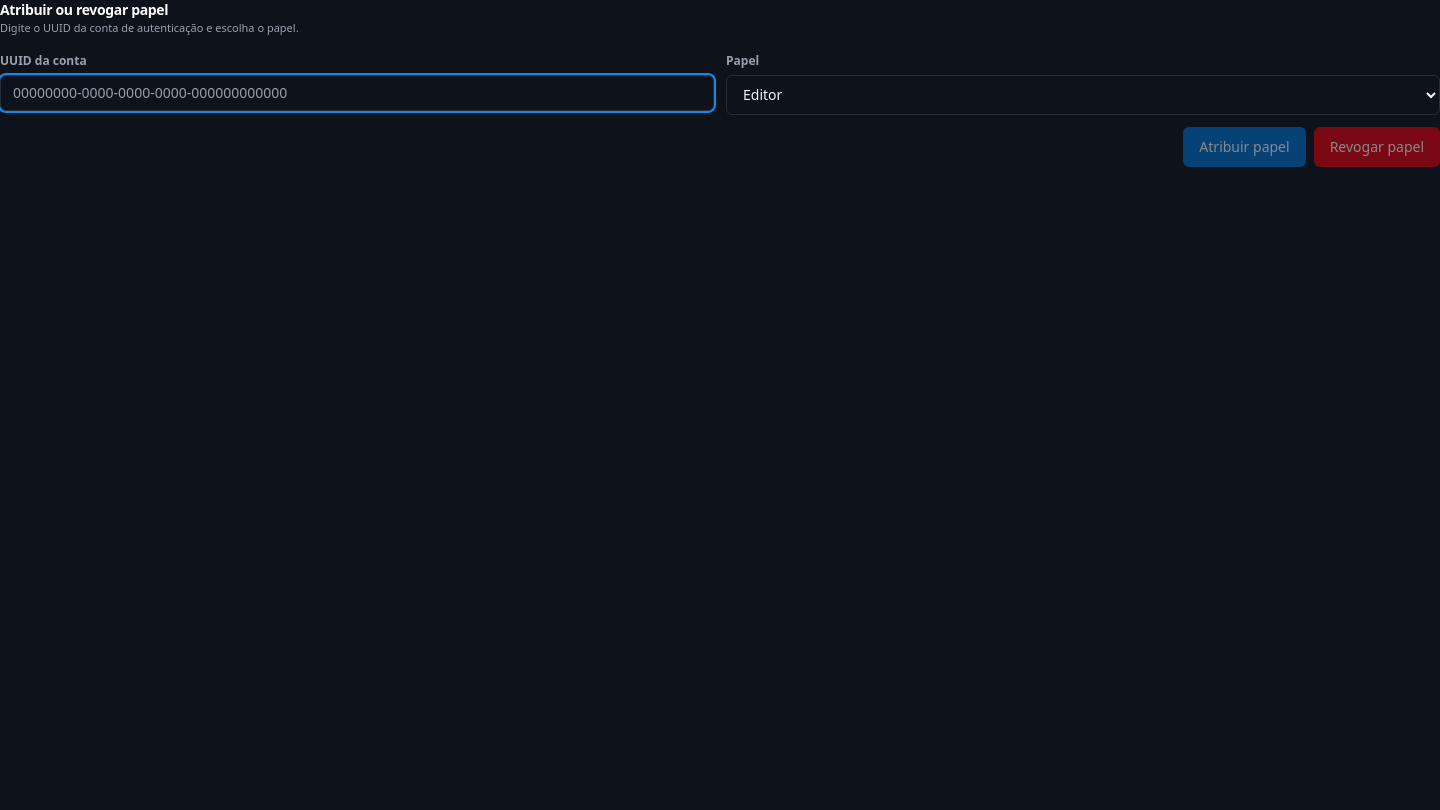
Scenario: UsuariosForm › envia atribuicao ao confirmar e mostra mensagem de sucesso
This screenshot has width=1440, height=810.
Type "00000000-0000-4000-8000-000000000002" into the field labelled "UUID da conta" at (357, 92), box top-left (0, 74), bottom-right (714, 110)
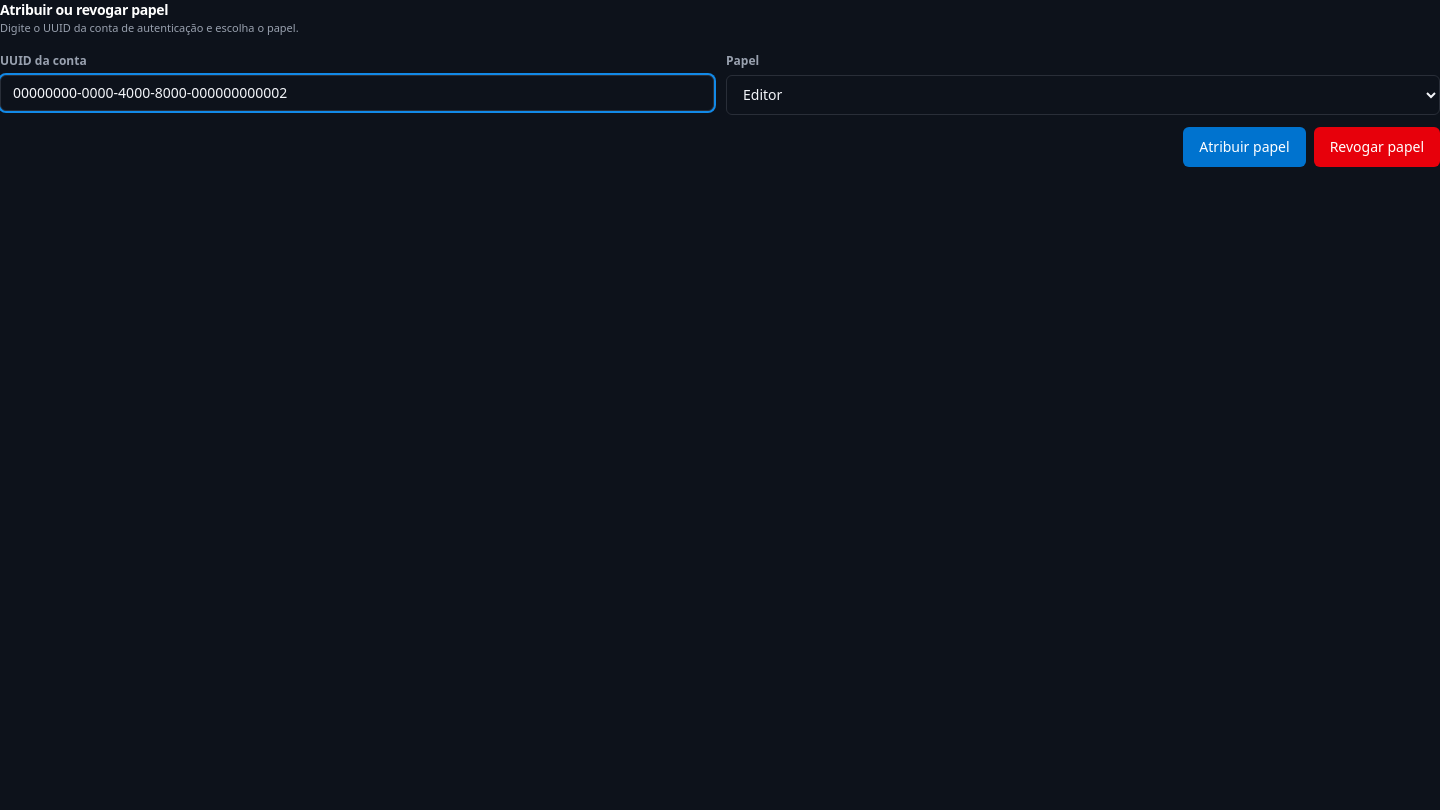
Click the button "Atribuir papel" at (1244, 146), box top-left (1183, 126), bottom-right (1306, 166)
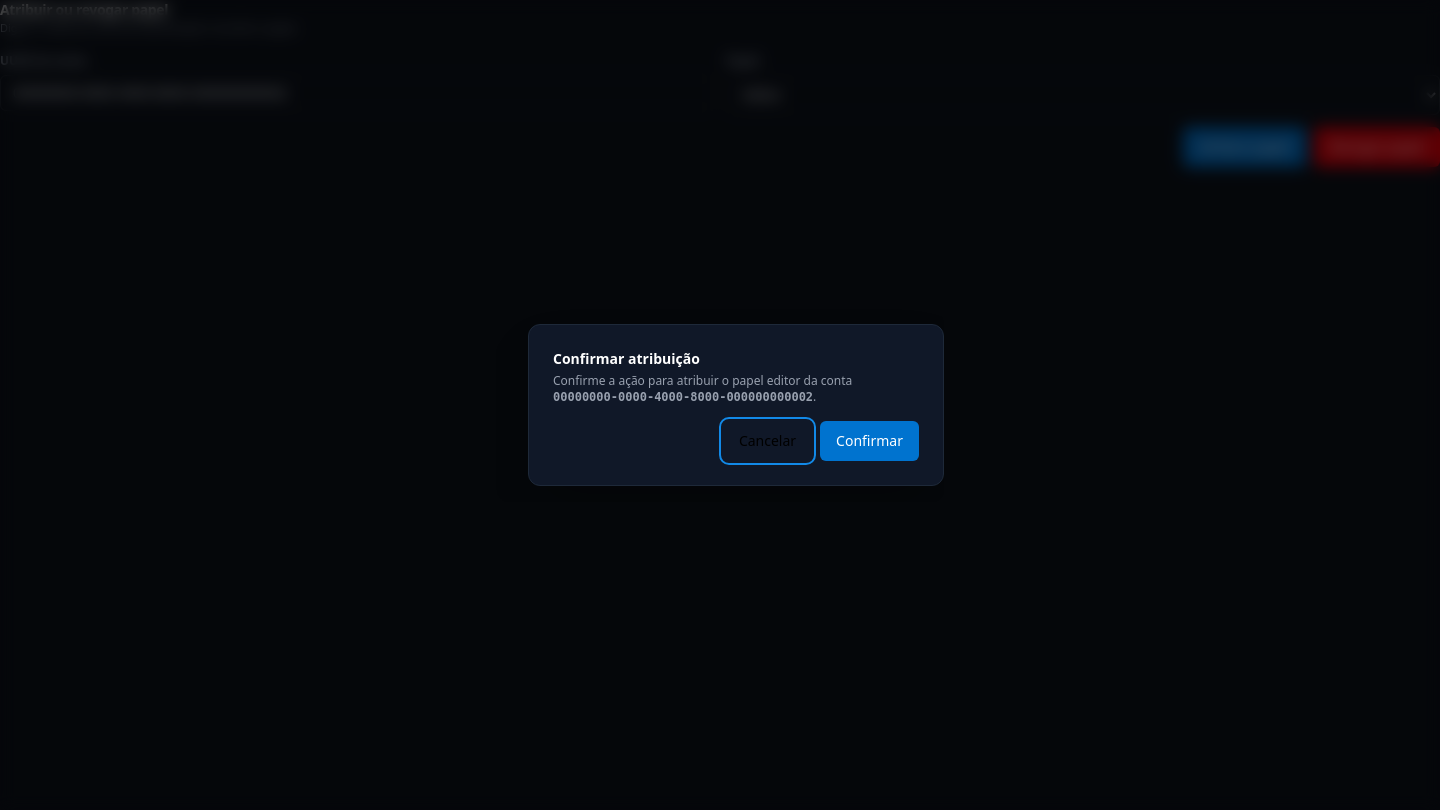
Result: the dialog is shown at top-left (496, 308), bottom-right (944, 502)
Click the button "Confirmar" at (870, 441), box top-left (820, 421), bottom-right (919, 461)
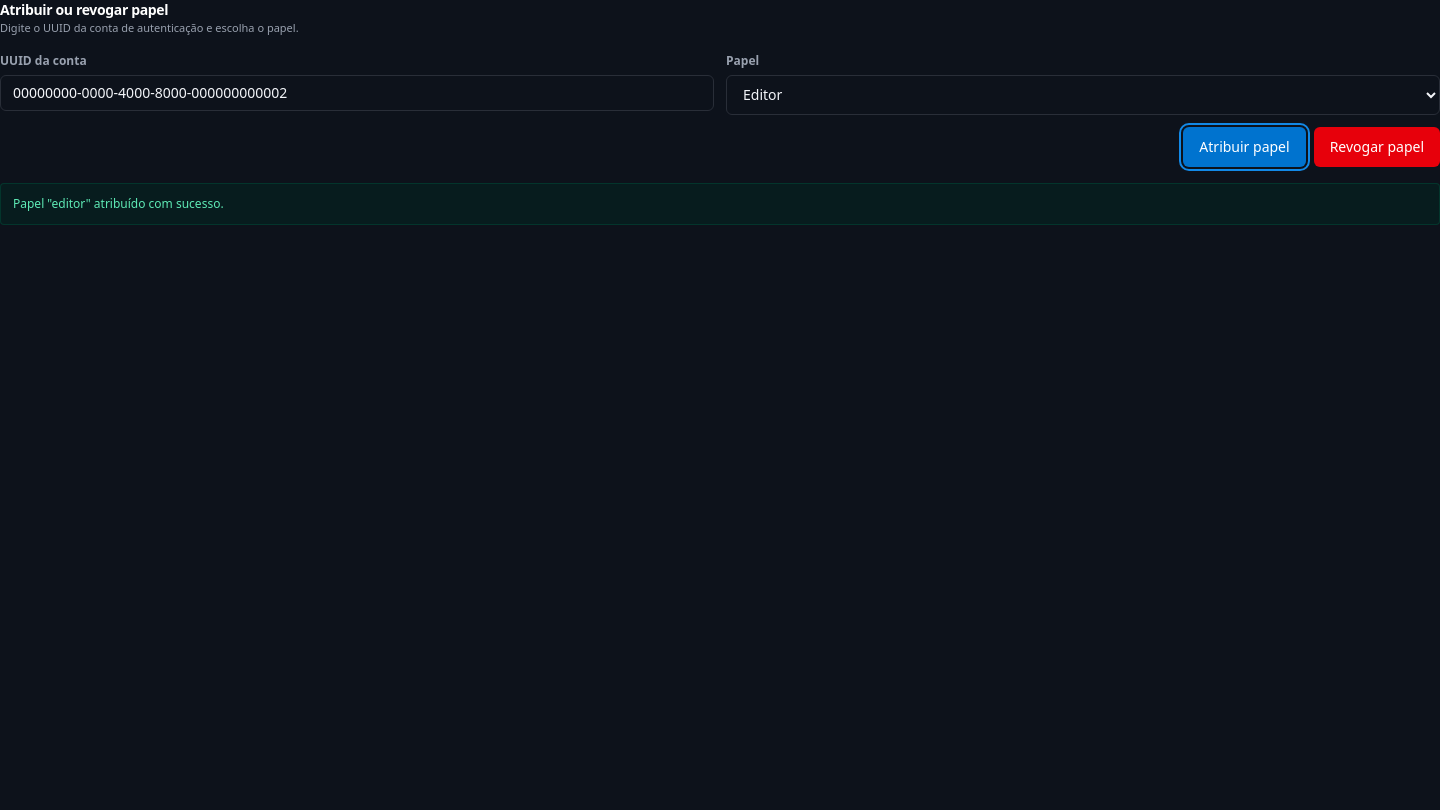
Result: the text "Papel \"editor\" atribuído com sucesso." is shown at top-left (0, 182), bottom-right (1439, 224)
